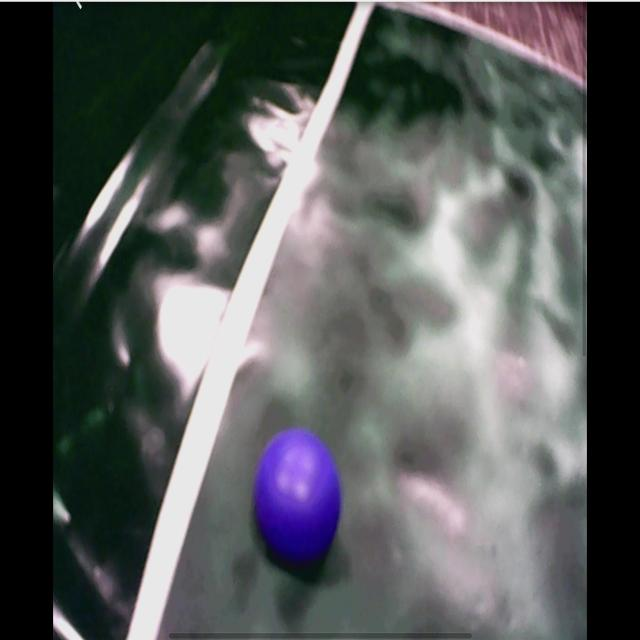ball: (255, 432, 342, 569)
